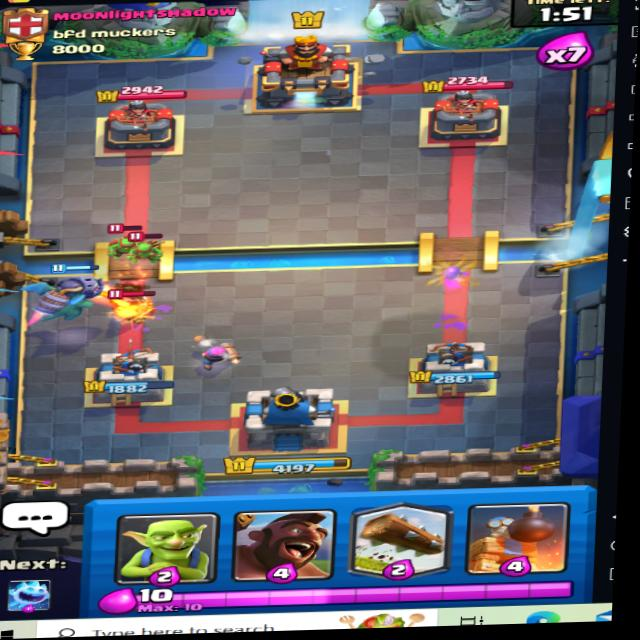monk: (95, 288, 167, 332)
spear-goblin: (126, 233, 167, 260), (106, 229, 148, 254)
